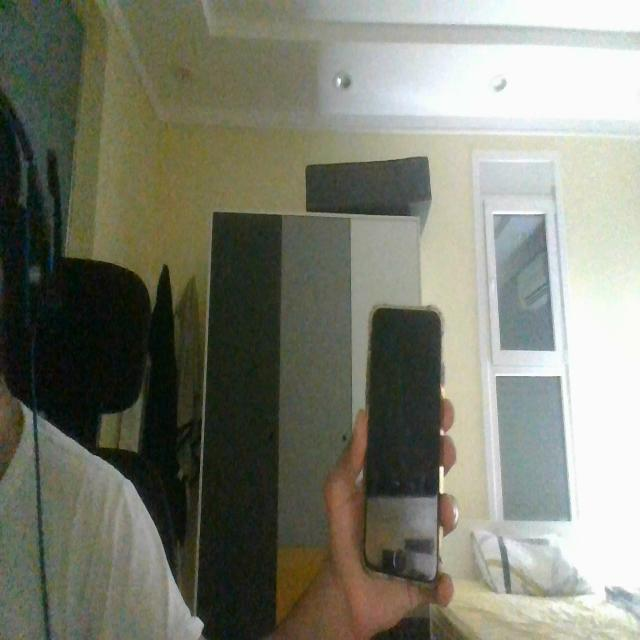Phone: (359, 303, 446, 586)
